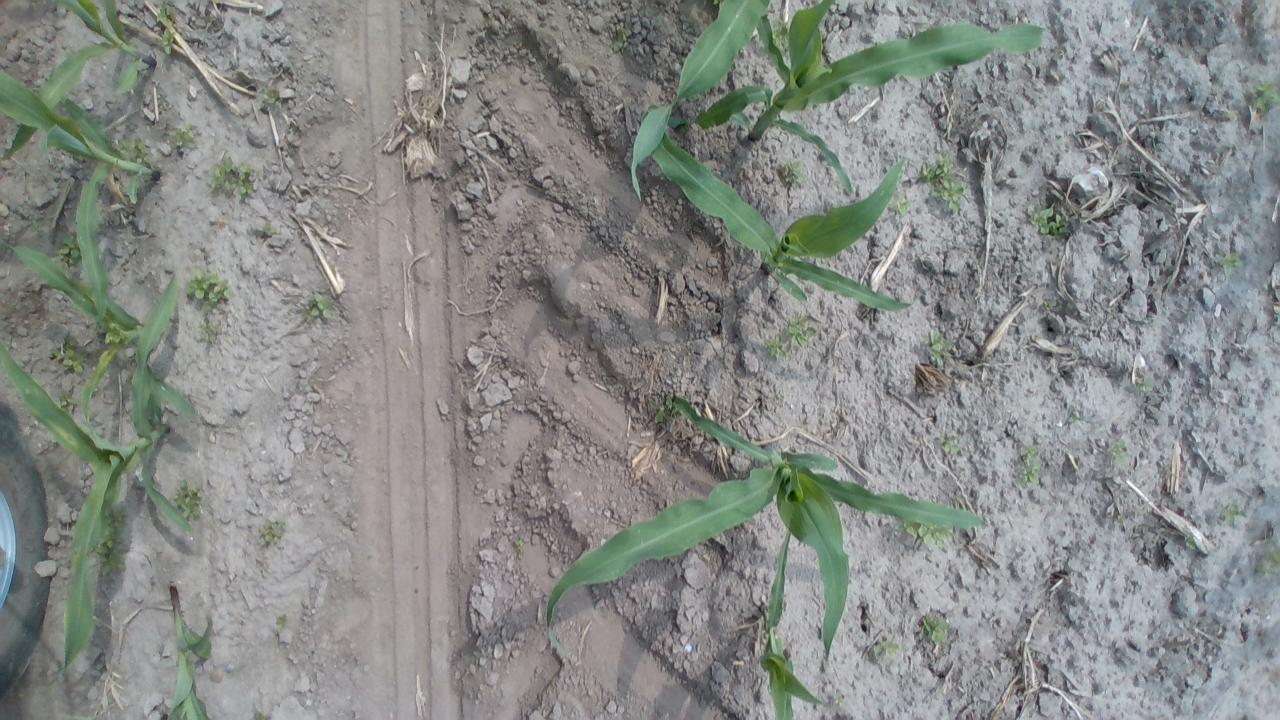Maize: (541, 393, 992, 673), (0, 263, 194, 692), (666, 0, 1052, 204), (639, 121, 917, 318), (0, 64, 173, 328), (0, 219, 202, 433), (0, 0, 164, 177), (628, 0, 768, 198), (755, 516, 826, 720), (146, 582, 221, 720)
Weeds: (91, 505, 134, 582), (916, 148, 968, 210), (762, 314, 816, 358), (49, 331, 94, 379), (209, 158, 258, 202), (1023, 203, 1078, 239), (181, 270, 230, 306), (894, 517, 951, 547), (151, 0, 179, 58), (172, 481, 208, 523), (648, 390, 686, 428), (1246, 76, 1279, 116), (922, 334, 956, 372), (115, 134, 158, 164), (1014, 448, 1044, 490), (918, 610, 952, 647), (1255, 535, 1280, 583), (304, 291, 339, 325), (774, 156, 809, 190), (56, 232, 88, 268), (164, 120, 198, 150), (1214, 248, 1248, 278), (770, 13, 796, 50), (872, 632, 904, 662), (602, 26, 632, 56), (260, 515, 288, 547), (886, 195, 920, 221), (1107, 436, 1131, 472), (256, 83, 284, 112), (54, 392, 84, 419), (249, 220, 282, 244), (196, 320, 226, 346), (1178, 532, 1208, 555), (940, 430, 962, 459), (512, 532, 530, 566), (1222, 502, 1244, 526), (270, 613, 288, 639), (1138, 372, 1156, 398), (252, 707, 278, 720)
